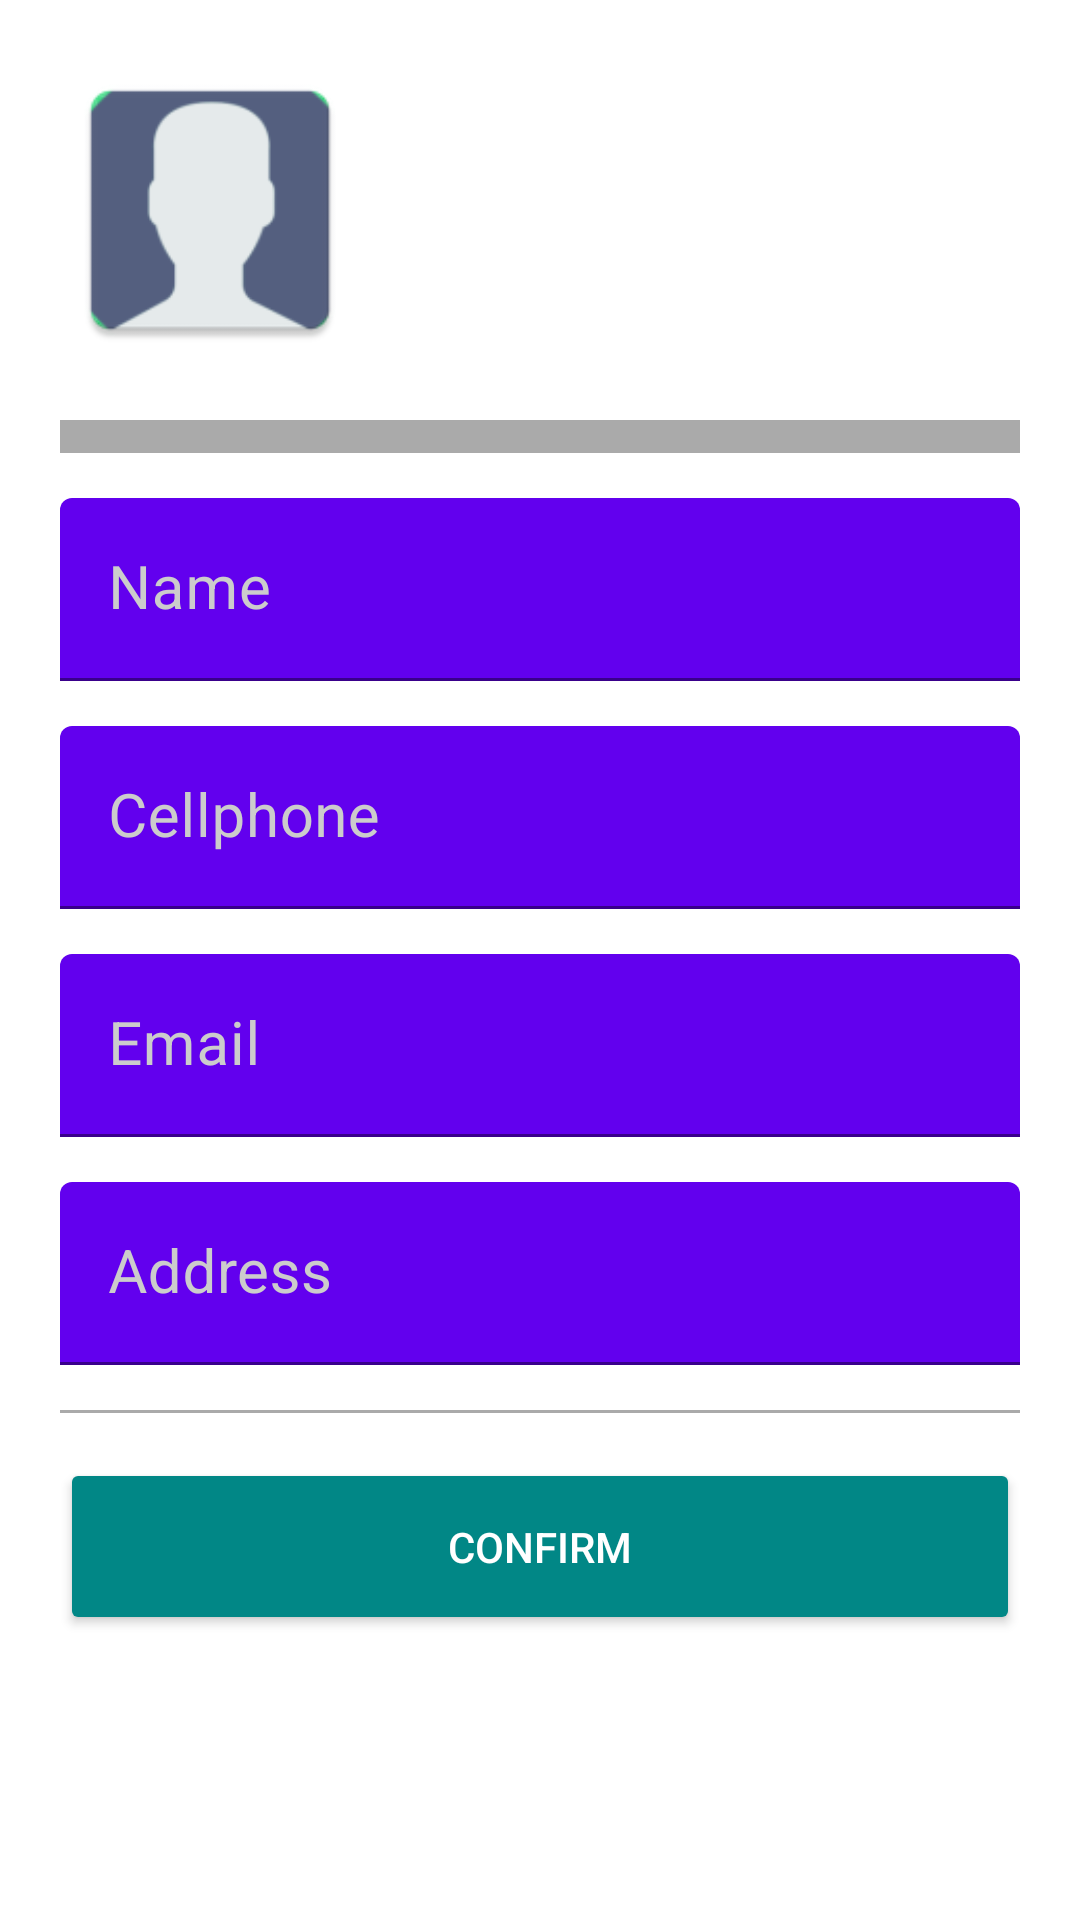

Named icons in this screenshot (1080px×1920px) and their centers, (x=x, y=y):
user: (x=210, y=213)
